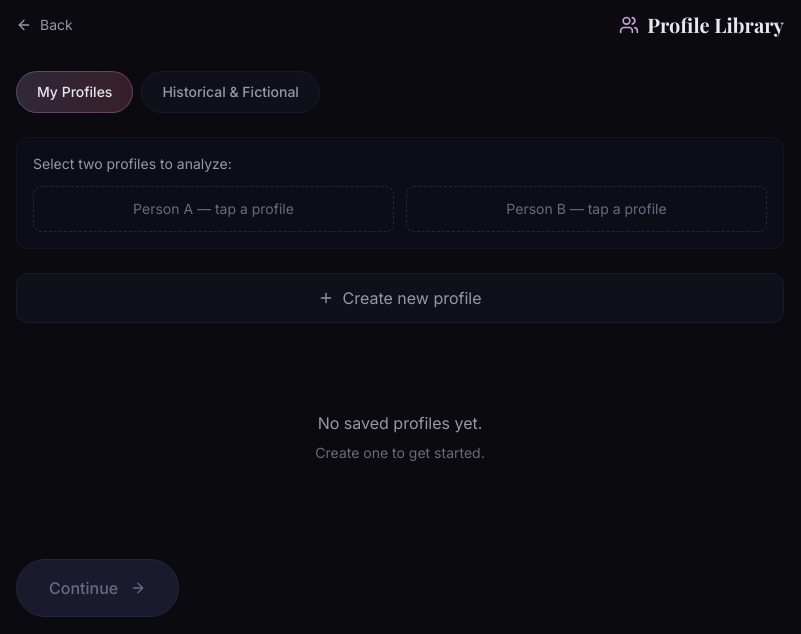
Test case: ProfileLibrary › fictional profiles do not show a delete button
Click the tab "Historical & Fictional". click: (231,92)
box: [141,71,320,113]
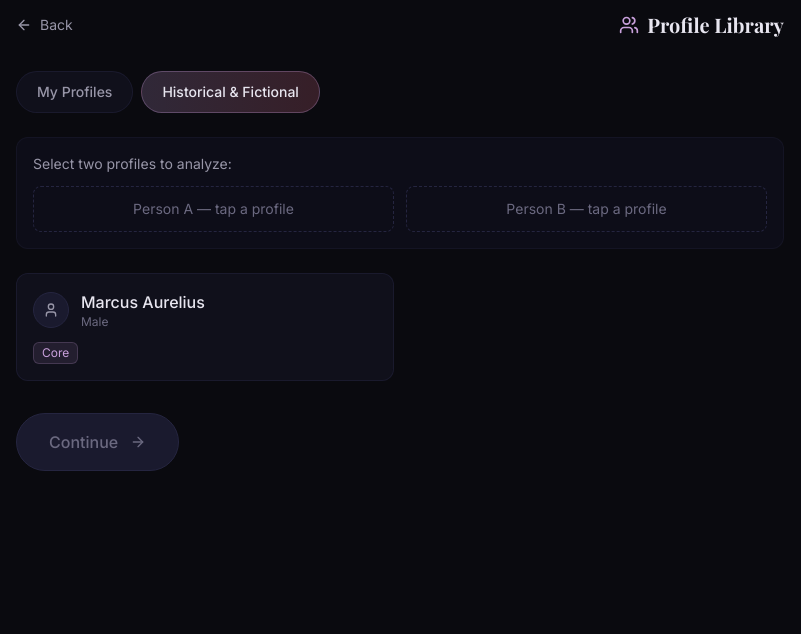
Now the heading "Marcus Aurelius" is shown, box [81,290,205,314]
